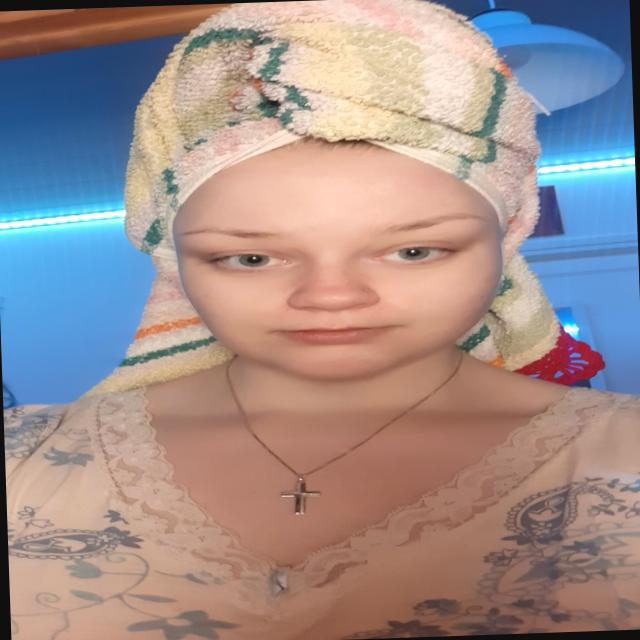eyebrow: (383, 212, 491, 233), (177, 227, 276, 239)
